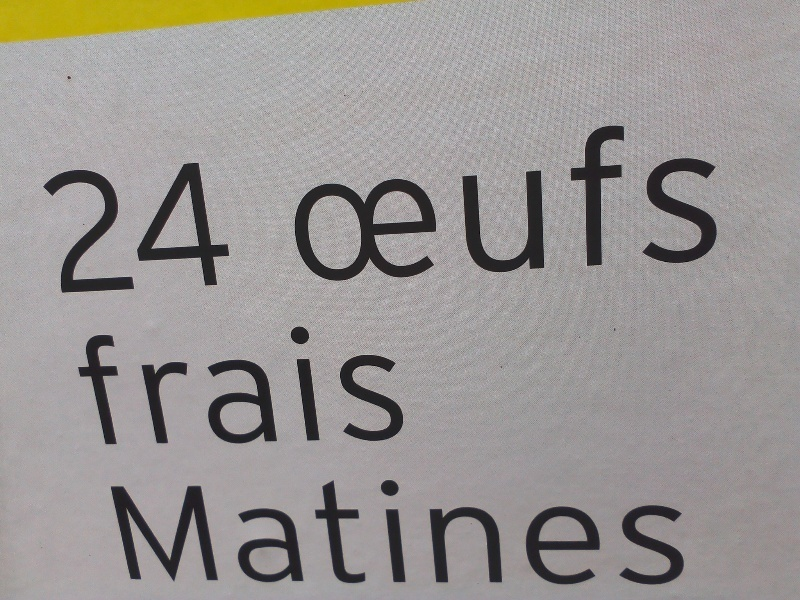text: (289, 118, 304, 284), (305, 118, 320, 284), (321, 118, 336, 284), (337, 118, 352, 284), (353, 118, 368, 284), (369, 118, 384, 284), (385, 118, 400, 284), (401, 118, 416, 284), (417, 118, 432, 284), (433, 118, 448, 284), (449, 118, 464, 284), (465, 118, 480, 284), (481, 118, 496, 284), (497, 118, 512, 284), (513, 118, 528, 284), (529, 118, 544, 284), (545, 118, 560, 284), (561, 118, 576, 284), (577, 118, 592, 284), (593, 118, 608, 284), (609, 118, 624, 284), (625, 118, 640, 284), (641, 118, 656, 284), (657, 118, 672, 284), (673, 118, 688, 284), (689, 118, 704, 284), (705, 118, 720, 284), (49, 157, 64, 296), (65, 157, 80, 296), (81, 157, 96, 296), (97, 157, 112, 296), (113, 157, 128, 296), (129, 157, 144, 296), (145, 157, 160, 296), (161, 157, 176, 296), (177, 157, 192, 296), (193, 157, 208, 296), (209, 157, 224, 296), (81, 322, 96, 448), (97, 322, 112, 448), (113, 322, 128, 448), (129, 322, 144, 448), (145, 322, 160, 448), (161, 322, 176, 448), (177, 322, 192, 448), (193, 322, 208, 448), (209, 322, 224, 448), (225, 322, 240, 448), (241, 322, 256, 448), (257, 322, 272, 448), (273, 322, 288, 448), (289, 322, 304, 448), (305, 322, 320, 448), (321, 322, 336, 448), (337, 322, 352, 448), (353, 322, 368, 448), (369, 322, 384, 448), (385, 322, 400, 448), (225, 157, 238, 296), (113, 474, 128, 588), (129, 474, 144, 588), (145, 474, 160, 588), (161, 474, 176, 588), (177, 474, 192, 588), (193, 474, 208, 588), (209, 474, 224, 588), (225, 474, 240, 588), (241, 474, 256, 588), (257, 474, 272, 588), (273, 474, 288, 588), (289, 474, 304, 588), (305, 474, 320, 588), (321, 474, 336, 588), (337, 474, 352, 588), (353, 474, 368, 588), (369, 474, 384, 588), (385, 474, 400, 588), (401, 474, 416, 588), (417, 474, 432, 588), (433, 474, 448, 588), (449, 474, 464, 588), (465, 474, 480, 588), (481, 474, 496, 588), (497, 474, 512, 588), (513, 474, 528, 588), (529, 474, 544, 588), (545, 474, 560, 588), (561, 474, 576, 588), (577, 474, 592, 588), (593, 474, 608, 588), (609, 474, 624, 588), (625, 474, 640, 588), (641, 474, 656, 588), (657, 474, 672, 588), (673, 474, 688, 588), (70, 322, 80, 448), (401, 322, 411, 448), (39, 157, 48, 296), (103, 474, 112, 588), (689, 474, 698, 588), (721, 118, 724, 284)
